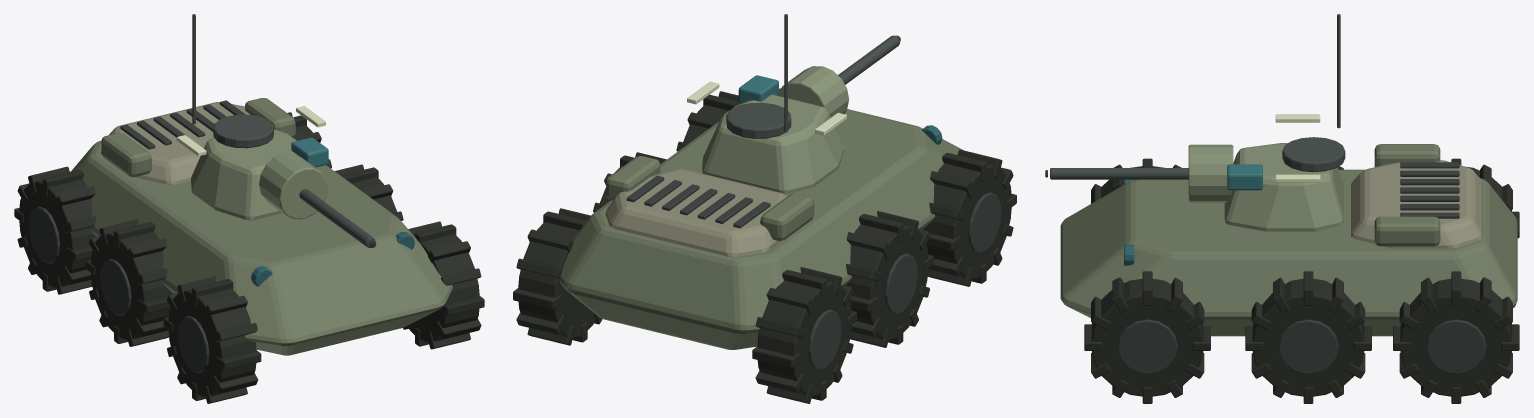
Rendered from scout.glb.
The picture shows the model from 3 angles, left to right: view 1: azimuth 30°, elevation 25°; view 2: azimuth 150°, elevation 25°; view 3: azimuth 270°, elevation 25°; orthographic projection. The views are drawn at different scales.
Visible parts, largest first — view 1: Chassis, TurretArmor, GunAssembly; view 2: Chassis, TurretArmor, GunAssembly; view 3: Chassis, TurretArmor, GunAssembly.
Boxes of the visible parts, x1=… form: Chassis: x1=14, y1=98, x2=484, y2=403; TurretArmor: x1=176, y1=14, x2=328, y2=220; GunAssembly: x1=259, y1=153, x2=376, y2=247; Chassis: x1=513, y1=88, x2=1016, y2=403; TurretArmor: x1=687, y1=14, x2=846, y2=194; GunAssembly: x1=777, y1=35, x2=900, y2=117; Chassis: x1=1060, y1=144, x2=1519, y2=403; TurretArmor: x1=1224, y1=14, x2=1345, y2=231; GunAssembly: x1=1045, y1=144, x2=1233, y2=202.
Size of the model in its own units: 2.39 by 2.55 by 3.6.
